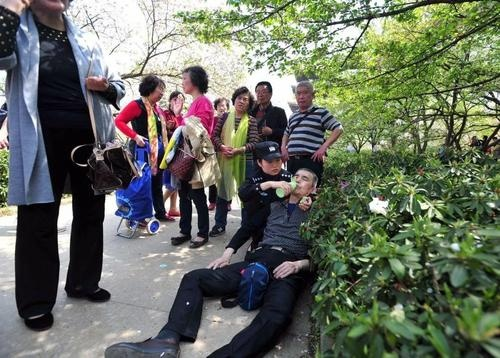falling: (74, 146, 330, 358)
